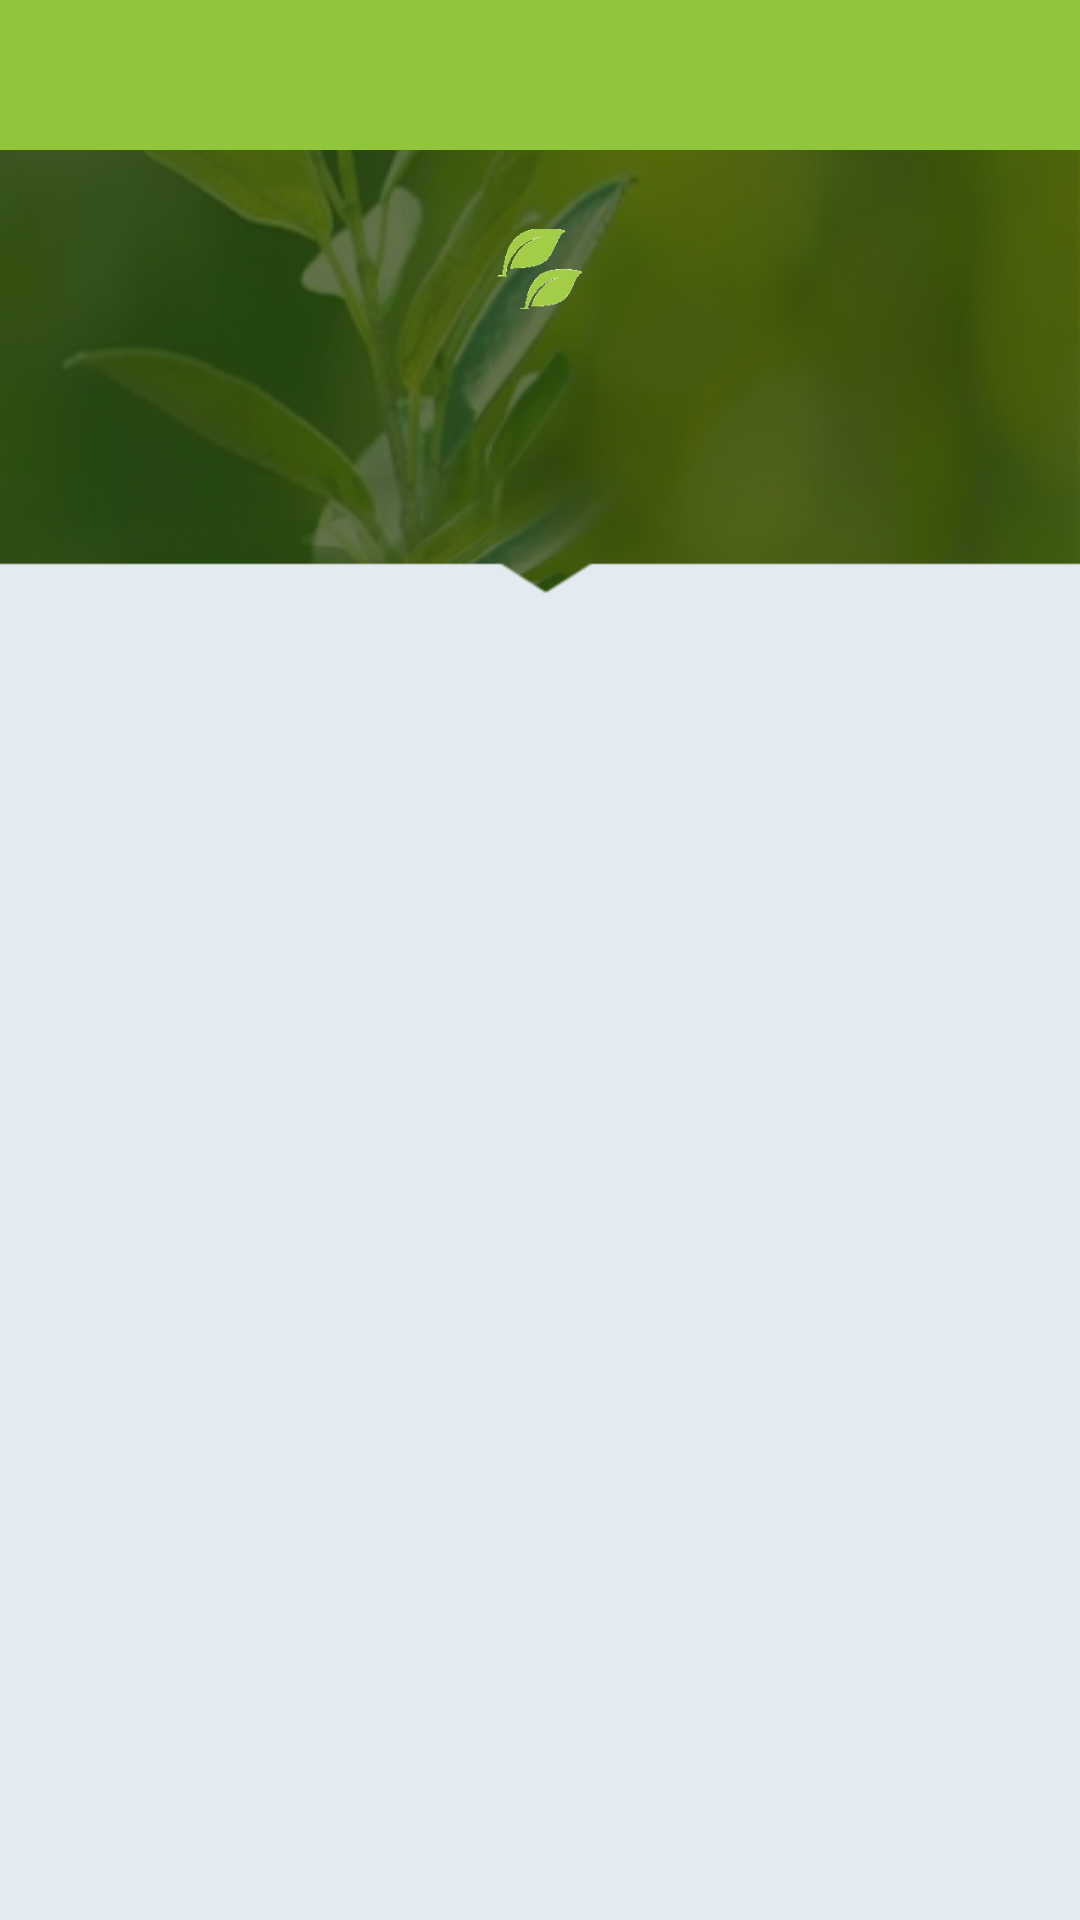

Where to tap for icons on this 1080px x 1920px app screen, as (x=x, y=y):
page nameleaf: (x=540, y=269)
